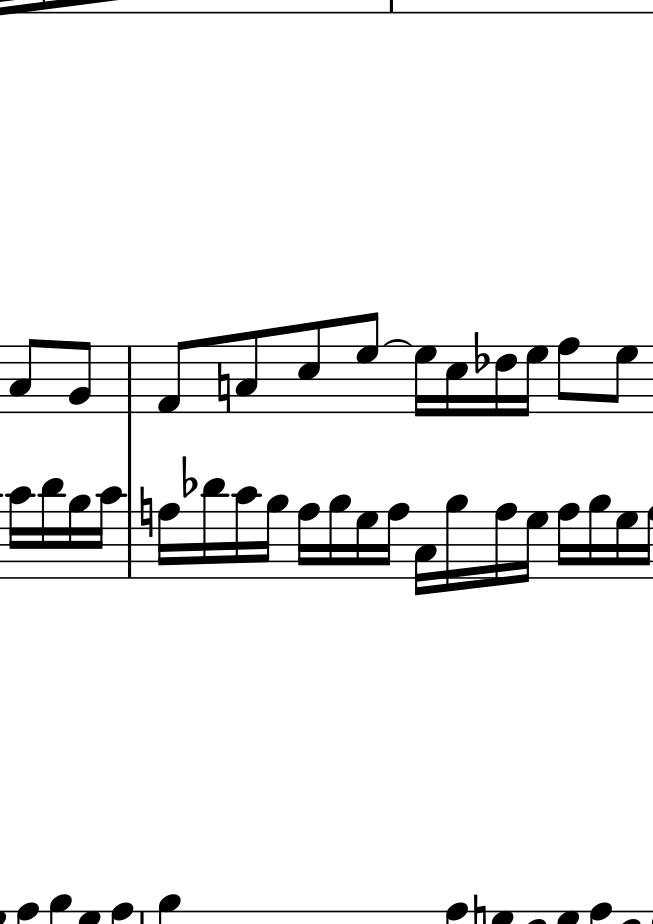16_10: (93, 485, 124, 582), (233, 484, 259, 580), (7, 486, 31, 580)
16_11: (200, 477, 227, 581), (39, 477, 63, 580)
16_3: (414, 509, 437, 596)
16_5: (444, 346, 470, 419)
16_6: (494, 343, 518, 419), (618, 910, 642, 924)
16_7: (518, 345, 549, 418), (519, 512, 549, 583), (413, 342, 436, 422), (614, 507, 638, 582), (354, 509, 376, 582)
16_8: (381, 503, 411, 580), (493, 500, 517, 588), (156, 501, 180, 582), (296, 501, 319, 581), (556, 502, 579, 580)
16_9: (444, 489, 468, 598), (260, 492, 287, 583), (67, 494, 92, 583), (587, 494, 611, 581), (327, 493, 350, 583)
8_1: (157, 339, 190, 415)
8_2: (67, 340, 92, 415)
8_3: (8, 337, 40, 415), (234, 328, 260, 417)
8_5: (297, 317, 321, 415)
8_7: (356, 311, 380, 415), (607, 344, 637, 414)
8_8: (556, 336, 580, 416)
Flat: (180, 454, 197, 501), (472, 331, 489, 376)
Natural: (216, 362, 232, 419), (138, 485, 154, 542)
Single_barline: (122, 346, 138, 414), (122, 514, 137, 578)
Slur: (386, 337, 410, 347)
